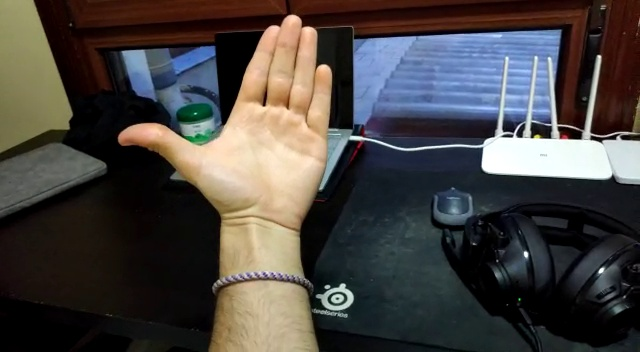Palm: (114, 11, 335, 242)
